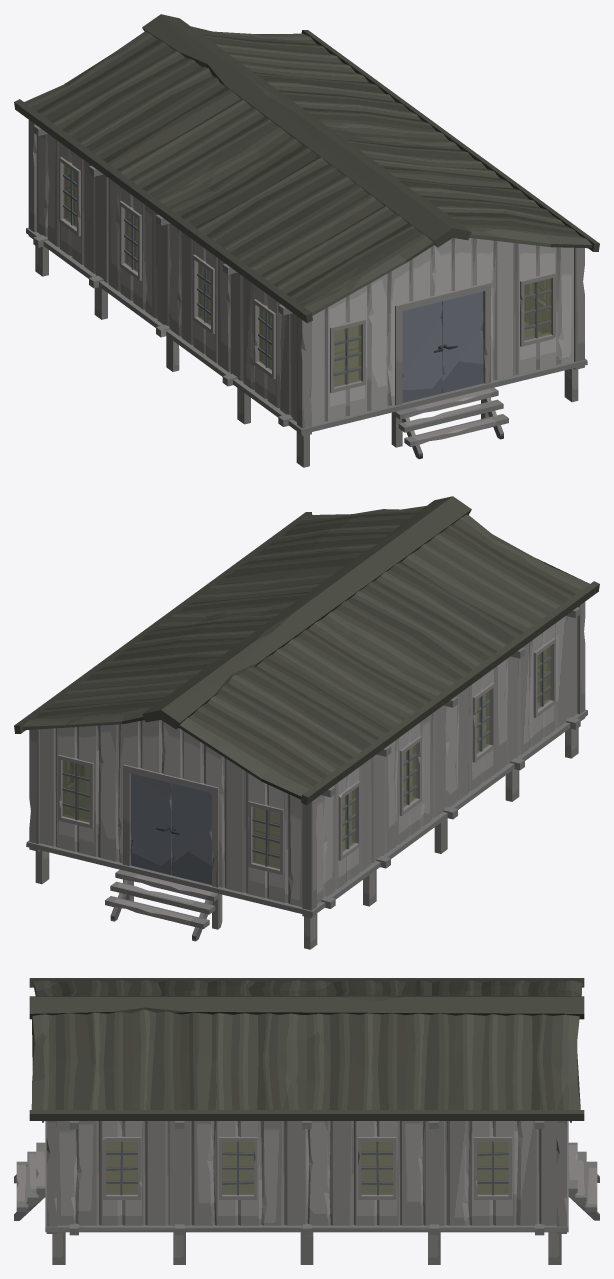
The model's file is SM_Bld_Barracks_01.fbx.
3 renders of one model, top to bottom at view 1: azimuth 30°, elevation 25°; view 2: azimuth 150°, elevation 25°; view 3: azimuth 270°, elevation 25°, orthographic. The views are drawn at different scales.
Visible parts, largest first — view 1: SM_Bld_Barracks_01, SM_Bld_Barracks_Glass_01, SM_Bld_Barracks_Door_02, SM_Bld_Barracks_Door_01; view 2: SM_Bld_Barracks_01, SM_Bld_Barracks_Glass_01, SM_Bld_Barracks_Door_04, SM_Bld_Barracks_Door_03; view 3: SM_Bld_Barracks_01, SM_Bld_Barracks_Glass_01.
Boxes of the visible parts, left/top/right/bottom form: SM_Bld_Barracks_01: left=14, top=14, right=599, bottom=467; SM_Bld_Barracks_Glass_01: left=63, top=165, right=551, bottom=387; SM_Bld_Barracks_Door_02: left=441, top=291, right=483, bottom=393; SM_Bld_Barracks_Door_01: left=402, top=301, right=443, bottom=402; SM_Bld_Barracks_01: left=14, top=496, right=599, bottom=949; SM_Bld_Barracks_Glass_01: left=62, top=646, right=550, bottom=869; SM_Bld_Barracks_Door_04: left=130, top=773, right=172, bottom=875; SM_Bld_Barracks_Door_03: left=170, top=783, right=212, bottom=885; SM_Bld_Barracks_01: left=14, top=978, right=599, bottom=1264; SM_Bld_Barracks_Glass_01: left=106, top=1141, right=508, bottom=1194.
Size of the model in its own units: 743 by 514 by 1336.
